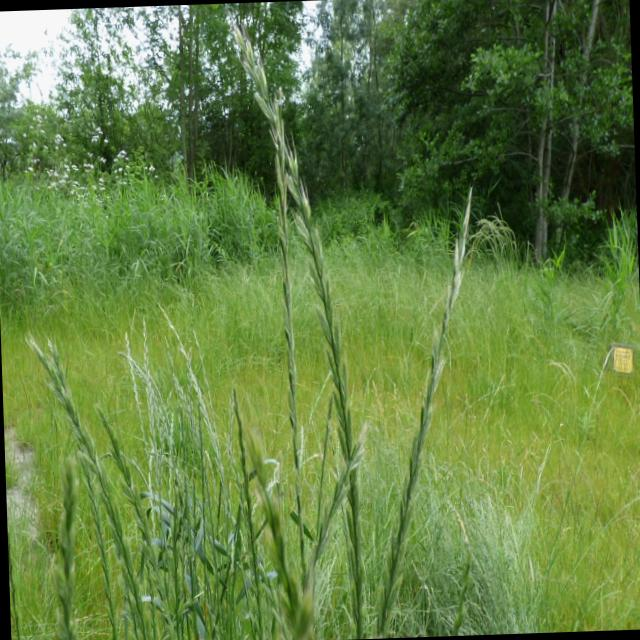Lolium: (224, 15, 368, 630), (352, 187, 494, 638), (226, 15, 322, 640), (38, 341, 138, 640), (261, 100, 309, 640), (91, 399, 177, 640), (245, 434, 314, 640), (45, 456, 84, 640)
